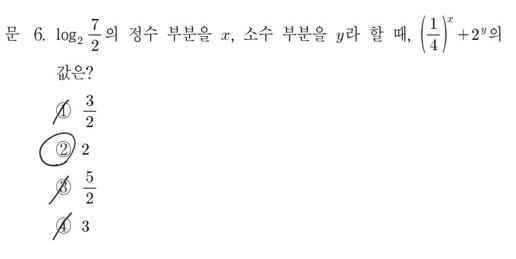1: (35, 129, 78, 167)
paper: (51, 137, 73, 159), (52, 176, 74, 198), (53, 215, 75, 237), (52, 99, 73, 119)
